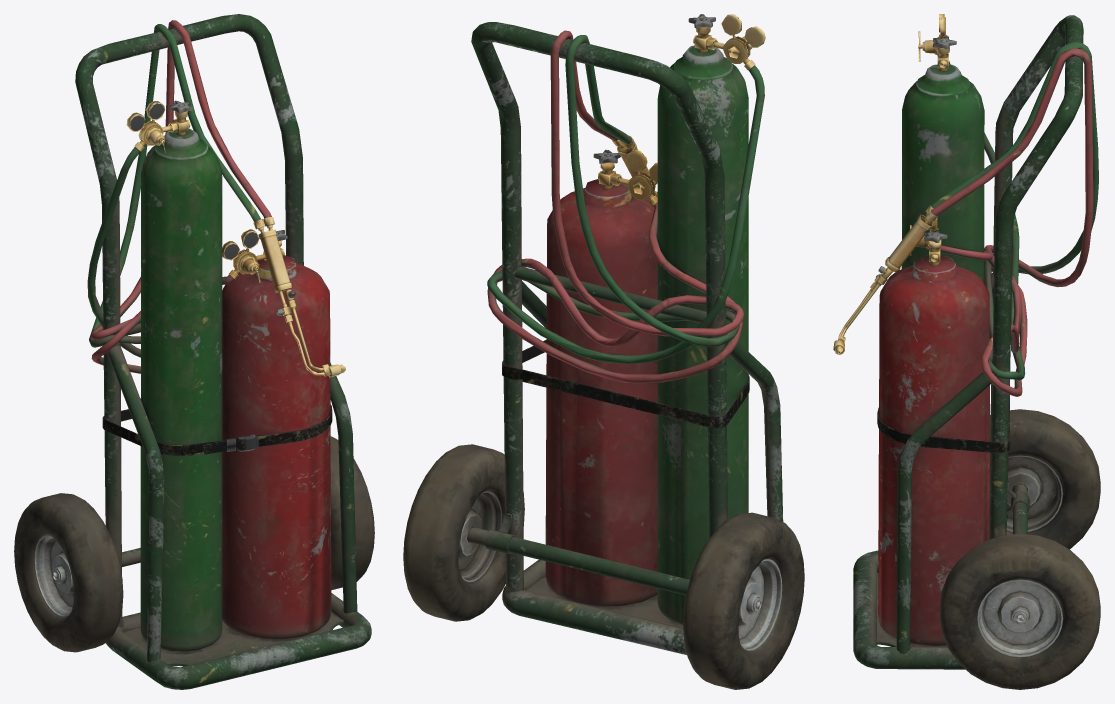
The model's file is ph_welder.glb.
3 renders of one model, left to right at view 1: azimuth 30°, elevation 25°; view 2: azimuth 150°, elevation 25°; view 3: azimuth 270°, elevation 25°, orthographic. The views are drawn at different scales.
Visible parts, largest first — view 1: portable_welding_cart; view 2: portable_welding_cart; view 3: portable_welding_cart.
Part boxes in pixels (x1=…): portable_welding_cart: x1=14, y1=14, x2=374, y2=689; portable_welding_cart: x1=403, y1=14, x2=804, y2=689; portable_welding_cart: x1=833, y1=14, x2=1100, y2=689.
Bounding box in the file's own units: 0.8365 × 1.56 × 0.6549.
2 materials, 2 textured.
